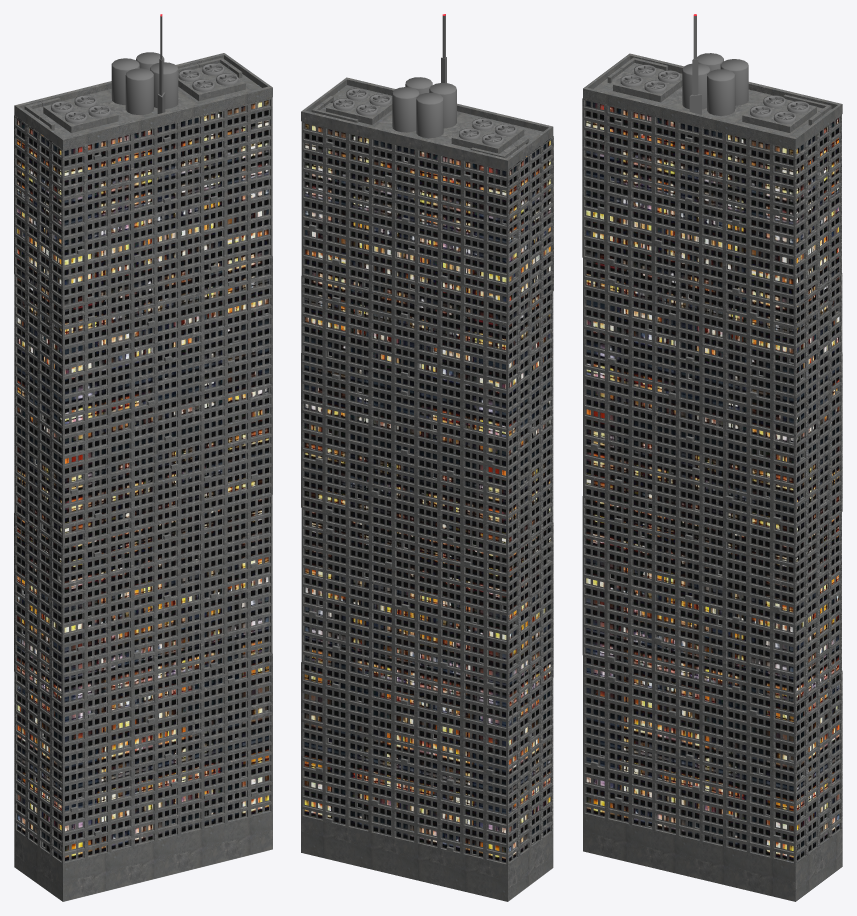
The model's file is quality-skyscraper-office.glb.
3 renders of one model, left to right at view 1: azimuth 30°, elevation 25°; view 2: azimuth 150°, elevation 25°; view 3: azimuth 330°, elevation 25°, orthographic. The views are drawn at different scales.
Parts seen in each view (by area): view 1: quality-skycraper-office; view 2: quality-skycraper-office; view 3: quality-skycraper-office.
Part boxes in pixels (x1,y1,x2,y2): quality-skycraper-office: [14, 14, 272, 901]; quality-skycraper-office: [301, 14, 553, 901]; quality-skycraper-office: [582, 14, 842, 901].
Bounding box in the file's own units: 79.14 × 305 × 32.27.
Materials: 4 (2 with a texture image).
